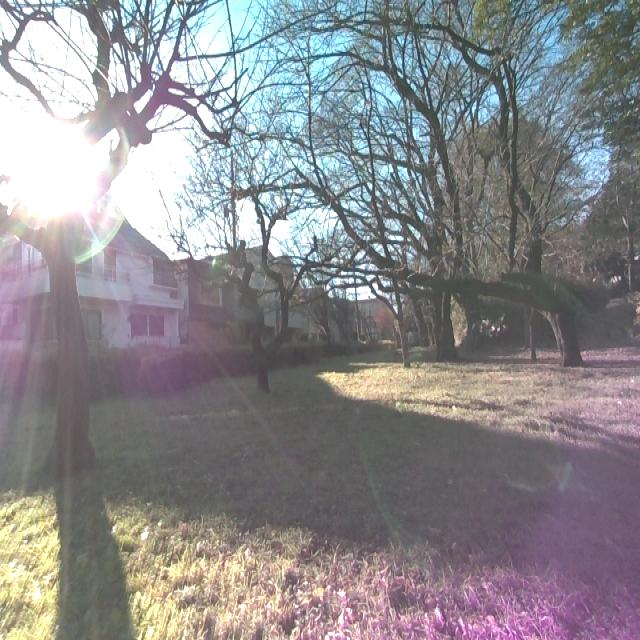tree: (254, 0, 599, 371), (0, 0, 230, 476), (173, 138, 309, 404)
